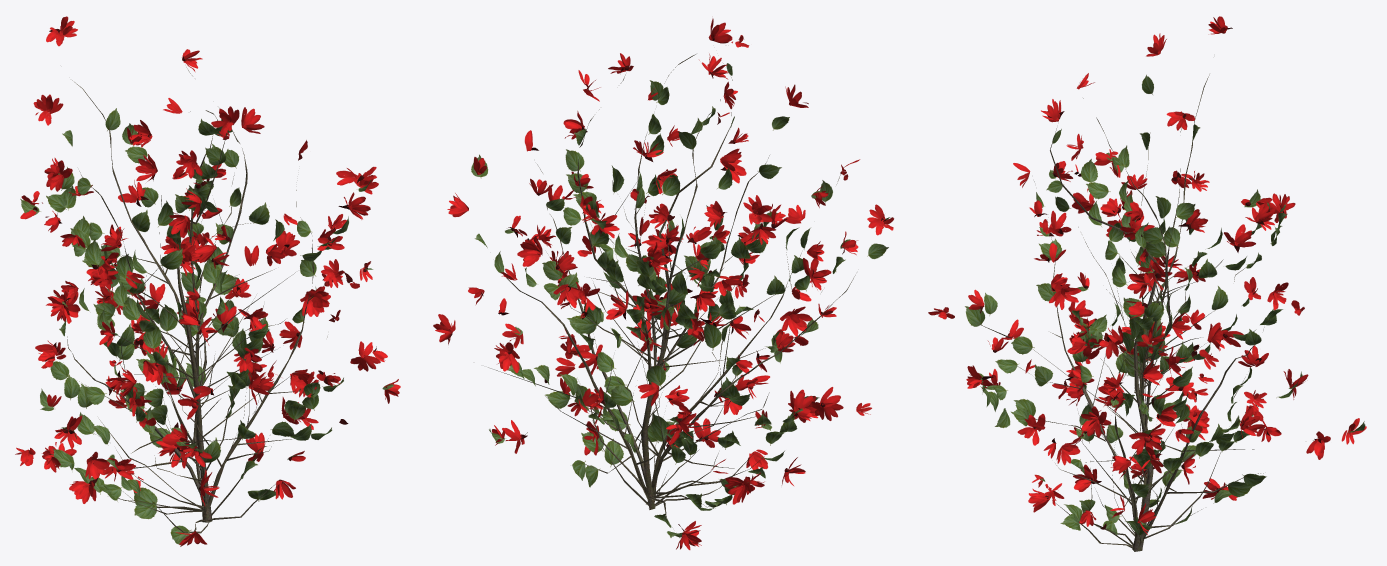
The model's file is hibiscus_shrub.glb.
3 renders of one model, left to right at view 1: azimuth 30°, elevation 25°; view 2: azimuth 150°, elevation 25°; view 3: azimuth 270°, elevation 25°, orthographic. The views are drawn at different scales.
Visible parts, largest first — view 1: bark_01_largeF_w; view 2: bark_01_largeF_w; view 3: bark_01_largeF_w.
Part boxes in pixels (x1,y1,x2,y2): bark_01_largeF_w: [15, 16, 400, 546]; bark_01_largeF_w: [433, 18, 893, 550]; bark_01_largeF_w: [928, 16, 1366, 551].
Bounding box in the file's own units: 1.34 × 1.71 × 1.41.
3 materials, 3 textured.
